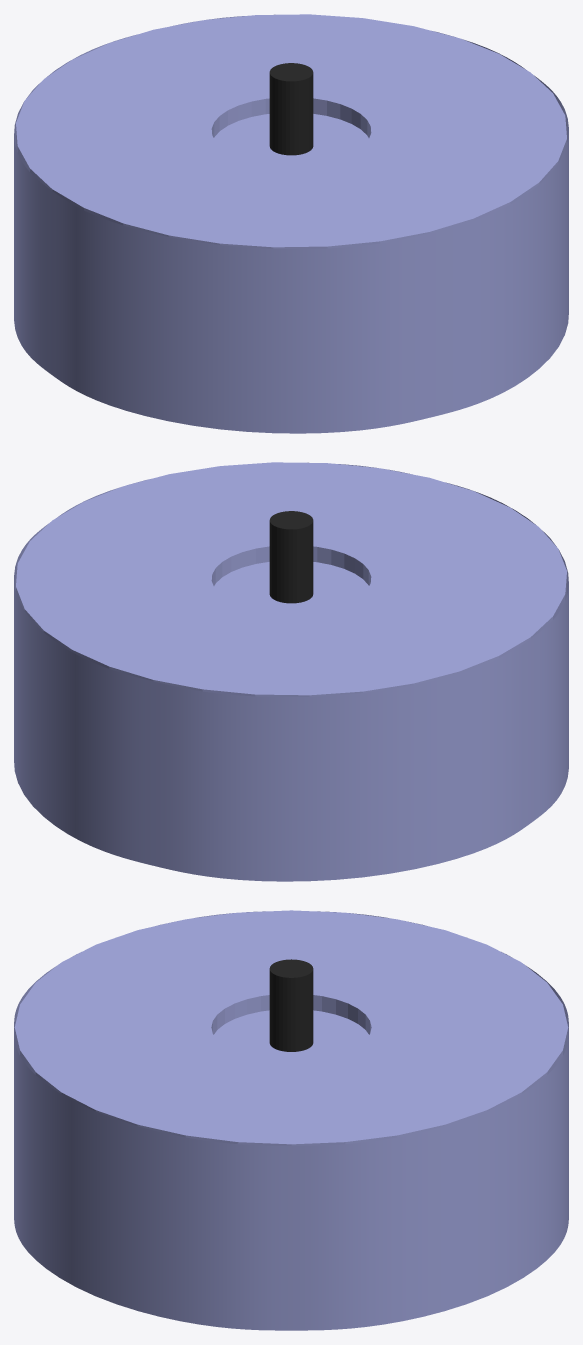
Rendered from BasicCandleForHolders.fbx.
3 views of the same model, one above another, from view 1: azimuth 30°, elevation 25°; view 2: azimuth 150°, elevation 25°; view 3: azimuth 270°, elevation 25° (orthographic).
Visible parts, largest first — view 1: Surface, Cylinder, Cylinder.002; view 2: Surface, Cylinder, Cylinder.002; view 3: Surface, Cylinder, Cylinder.002.
Boxes of the visible parts, x1,y1,x2,y2 form: Surface: (14, 14, 568, 433); Cylinder: (16, 14, 566, 249); Cylinder.002: (269, 63, 313, 155); Surface: (14, 462, 568, 881); Cylinder: (16, 462, 566, 697); Cylinder.002: (269, 511, 313, 603); Surface: (14, 911, 568, 1330); Cylinder: (14, 910, 568, 1145); Cylinder.002: (269, 959, 313, 1051).
Bounding box in the file's own units: 76.2 × 37.05 × 76.2.
